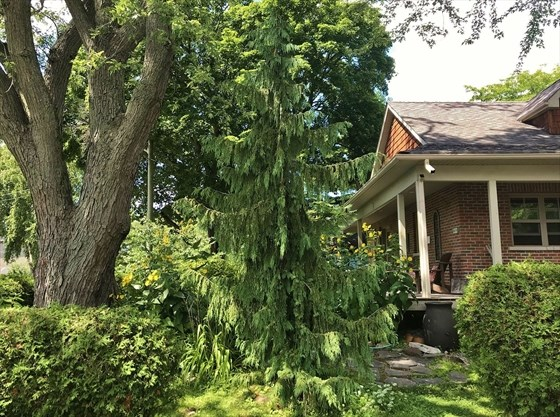bush: (1, 305, 189, 414), (460, 257, 560, 408)
tree: (194, 13, 427, 406)
